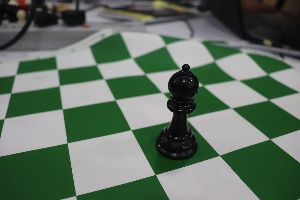black_bishop: (151, 52, 203, 169)
